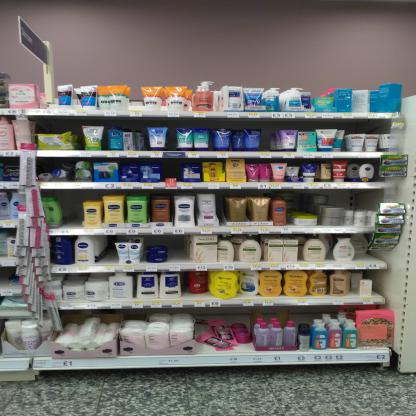Void: (54, 191, 81, 226), (331, 191, 372, 208), (290, 192, 314, 212), (96, 238, 113, 264), (172, 236, 188, 262), (164, 162, 181, 183)
